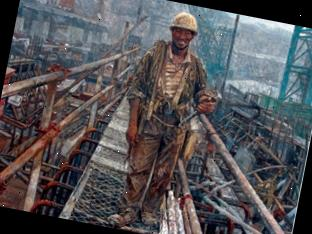helmet: (166, 8, 204, 36)
